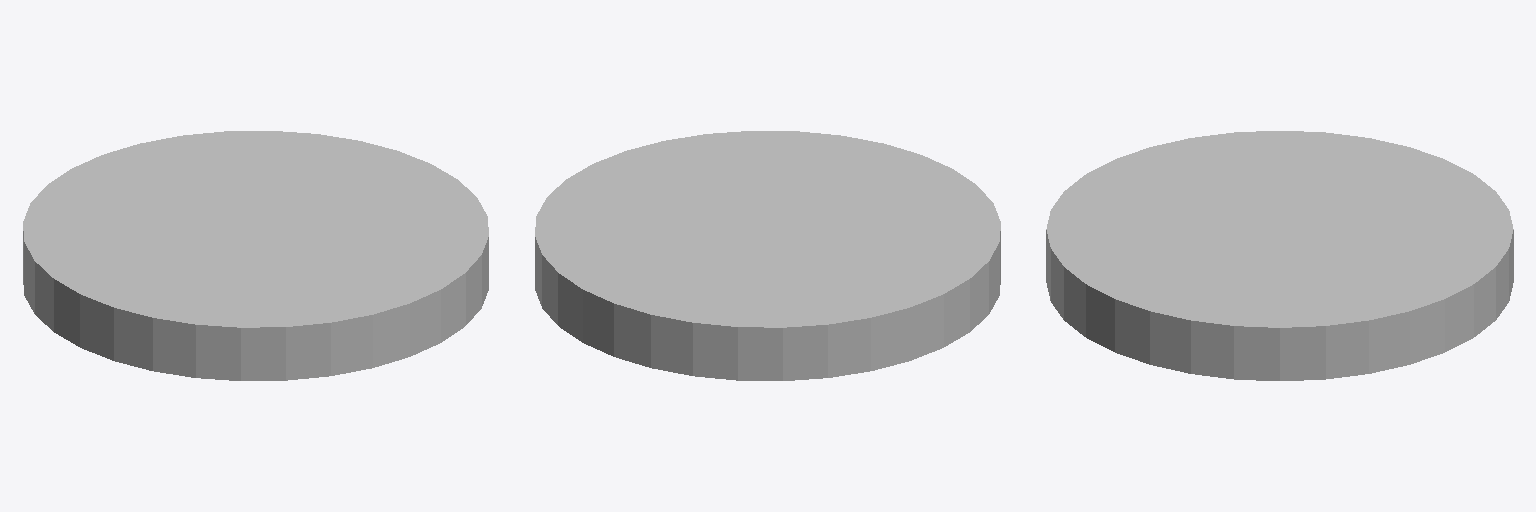
The model's file is Puck.obj.
3 views of the same model, side by side, from view 1: azimuth 30°, elevation 25°; view 2: azimuth 150°, elevation 25°; view 3: azimuth 270°, elevation 25° (orthographic).
Parts seen in each view (by area): view 1: Cylinder; view 2: Cylinder; view 3: Cylinder.
Part boxes in pixels (x1,y1,x2,y2): Cylinder: (23,131,488,380); Cylinder: (535,131,1000,380); Cylinder: (1046,131,1513,380).
Bounding box in the file's own units: 2 × 0.2528 × 2.